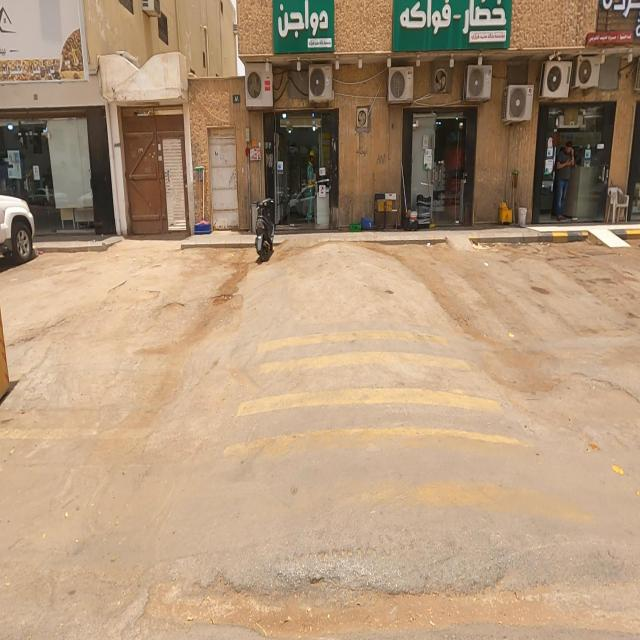Graffiti: (354, 146, 368, 158), (384, 144, 392, 162), (377, 151, 385, 168)
